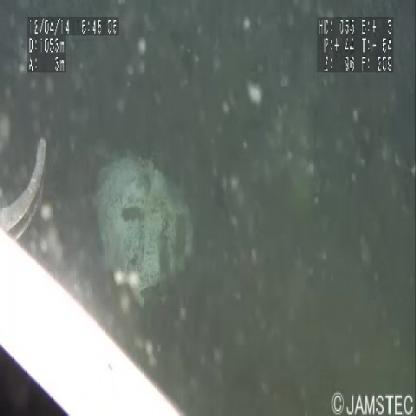Rác: (95, 157, 195, 313)
